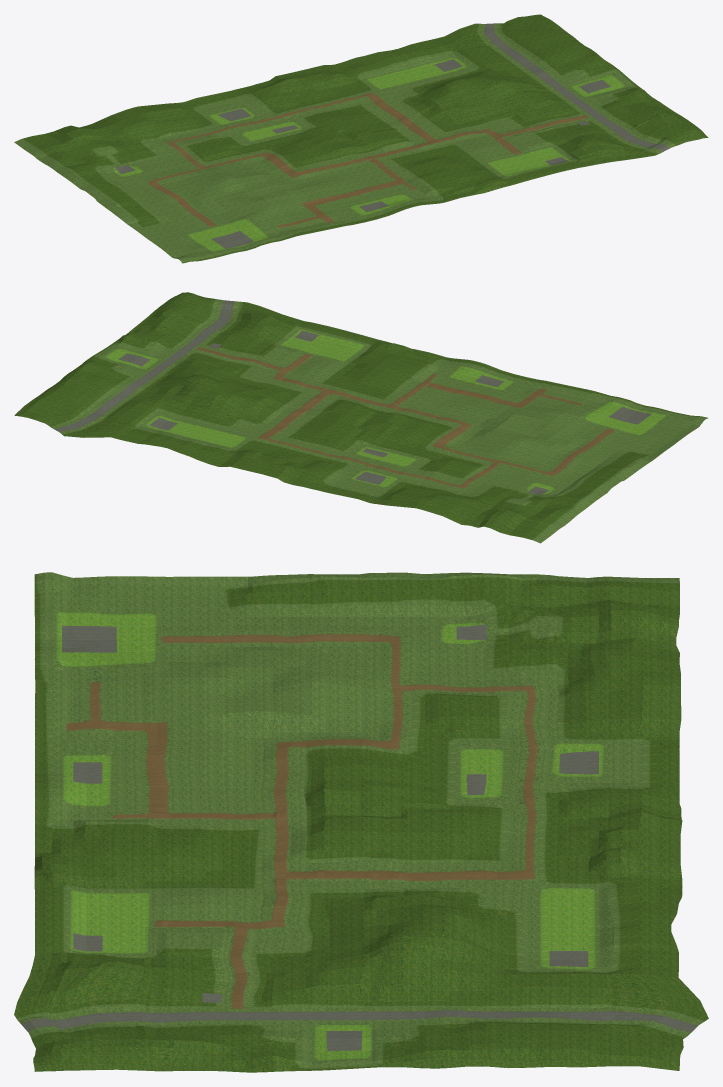
Rendered from Nivel1.fbx.
The picture shows the model from 3 angles, top to bottom: view 1: azimuth 30°, elevation 25°; view 2: azimuth 150°, elevation 25°; view 3: azimuth 270°, elevation 25°; orthographic projection. The views are drawn at different scales.
Visible parts, largest first — view 1: Nivel; view 2: Nivel; view 3: Nivel.
Boxes of the visible parts, bbox=[...] form: Nivel: bbox=[14, 14, 708, 263]; Nivel: bbox=[14, 292, 708, 543]; Nivel: bbox=[14, 572, 708, 1072].
Bounding box in the file's own units: 544 × 323 × 13.36.
9 materials, 9 textured.
